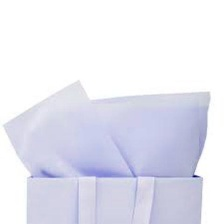book: (19, 169, 207, 224)
tissue: (0, 74, 215, 182)
